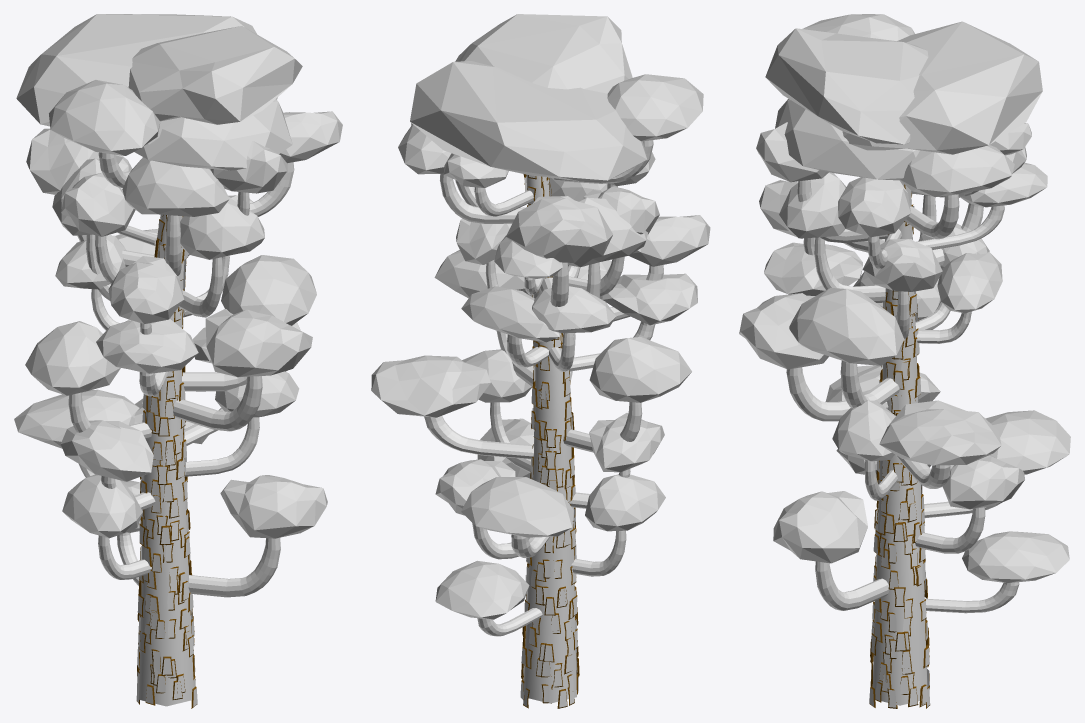
File: Tree11.fbx
3 renders of one model, left to right at view 1: azimuth 30°, elevation 25°; view 2: azimuth 150°, elevation 25°; view 3: azimuth 270°, elevation 25°, orthographic. The views are drawn at different scales.
Visible parts, largest first — view 1: Tree11; view 2: Tree11; view 3: Tree11.
Boxes of the visible parts, x1,y1,x2,y2 form: Tree11: (14, 14, 342, 708); Tree11: (371, 14, 710, 708); Tree11: (739, 14, 1070, 708).
Bounding box in the file's own units: 632 × 1395 × 626.
